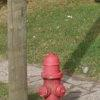Hydrant: (31, 46, 73, 100)
